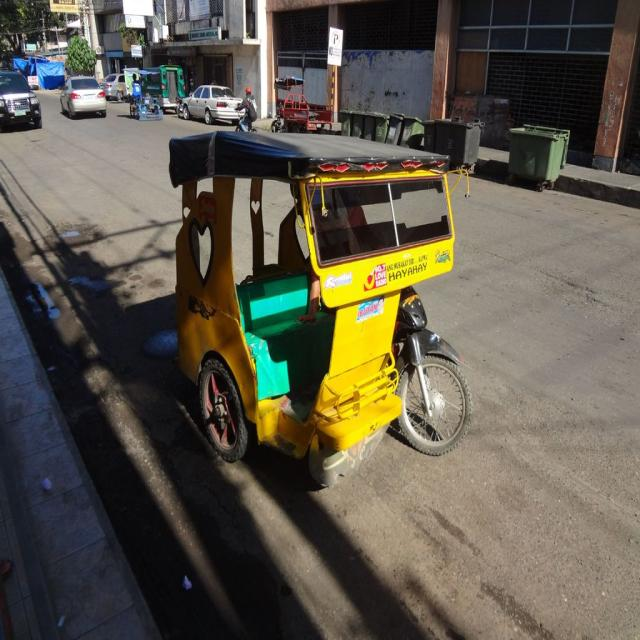car: (179, 82, 255, 126), (0, 70, 44, 132), (58, 71, 110, 120), (99, 64, 131, 98)
